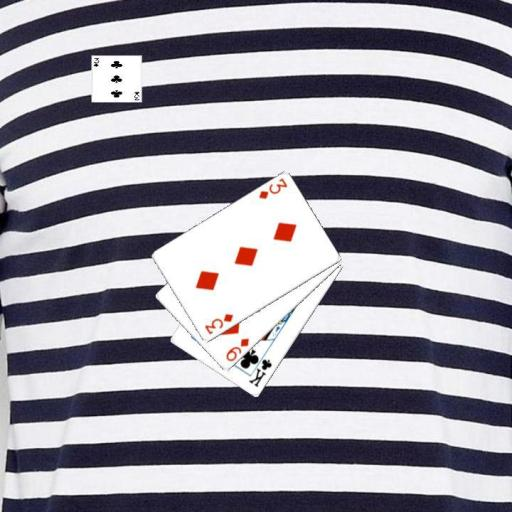3D: (201, 311, 235, 336), (255, 175, 289, 200)
9D: (223, 335, 250, 363)
KC: (245, 350, 273, 388)
